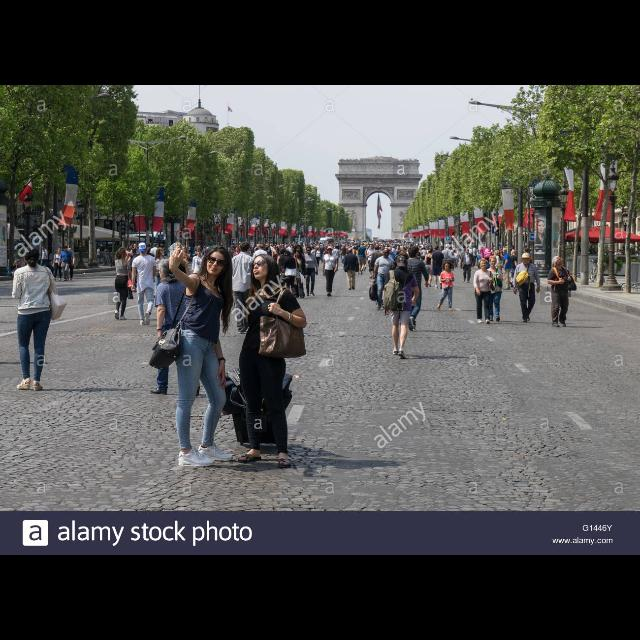head: (252, 253, 280, 280), (205, 246, 229, 276), (159, 259, 175, 281), (23, 246, 41, 264), (553, 256, 565, 268), (395, 256, 407, 268), (478, 258, 488, 270), (409, 247, 419, 259), (138, 242, 148, 254), (522, 255, 532, 265), (488, 257, 498, 267), (240, 242, 250, 252), (119, 246, 127, 258), (382, 248, 390, 258), (444, 263, 452, 271), (502, 248, 508, 256), (436, 244, 442, 252), (306, 247, 312, 255), (284, 251, 290, 259), (181, 246, 187, 254), (197, 248, 203, 256), (296, 245, 302, 252), (259, 243, 265, 250), (158, 249, 165, 255), (523, 248, 529, 254), (512, 250, 518, 256), (494, 250, 500, 256), (348, 248, 354, 254), (295, 252, 301, 258), (328, 248, 332, 255), (64, 246, 68, 252), (134, 244, 138, 250), (146, 247, 150, 253), (154, 244, 160, 248), (370, 244, 374, 250), (429, 248, 433, 254), (446, 244, 450, 250), (388, 247, 392, 253), (465, 250, 469, 254), (280, 250, 284, 254), (42, 246, 46, 250), (56, 250, 60, 254), (68, 249, 72, 253), (160, 245, 164, 249), (360, 243, 364, 247), (376, 246, 380, 250), (98, 247, 102, 250), (474, 246, 478, 248), (336, 246, 338, 248)
person: (146, 242, 240, 470), (224, 253, 310, 472), (10, 245, 70, 393), (149, 256, 205, 398), (381, 253, 422, 361), (226, 240, 264, 336), (397, 245, 431, 333), (130, 241, 160, 327), (546, 256, 578, 328), (512, 252, 542, 324), (110, 246, 136, 322), (479, 255, 508, 323), (368, 248, 398, 312), (472, 258, 498, 326), (434, 261, 458, 313), (278, 250, 302, 300), (152, 246, 170, 308), (320, 246, 340, 298), (250, 243, 270, 294), (290, 244, 308, 298), (190, 247, 208, 301), (174, 245, 192, 297), (302, 246, 320, 296), (340, 247, 360, 291), (369, 245, 387, 293), (128, 242, 144, 294), (439, 243, 457, 289), (276, 248, 292, 298), (292, 252, 308, 300), (141, 246, 157, 294), (429, 246, 446, 290), (519, 247, 535, 291), (420, 247, 436, 289), (458, 248, 476, 284), (384, 247, 398, 293), (506, 249, 522, 289), (490, 249, 504, 293), (58, 245, 74, 282), (499, 248, 513, 290), (51, 246, 65, 282), (365, 243, 379, 279), (62, 248, 76, 282), (36, 245, 50, 278), (147, 242, 159, 280), (158, 243, 170, 280), (357, 242, 368, 276), (329, 245, 341, 273), (94, 246, 102, 264), (472, 245, 478, 269)
